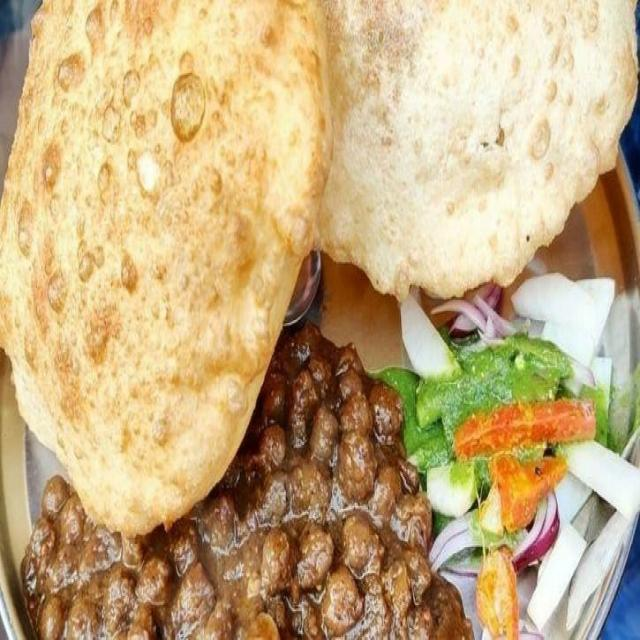Bhatura: (0, 0, 329, 536), (313, 0, 640, 296)
Chole: (25, 337, 442, 640)
